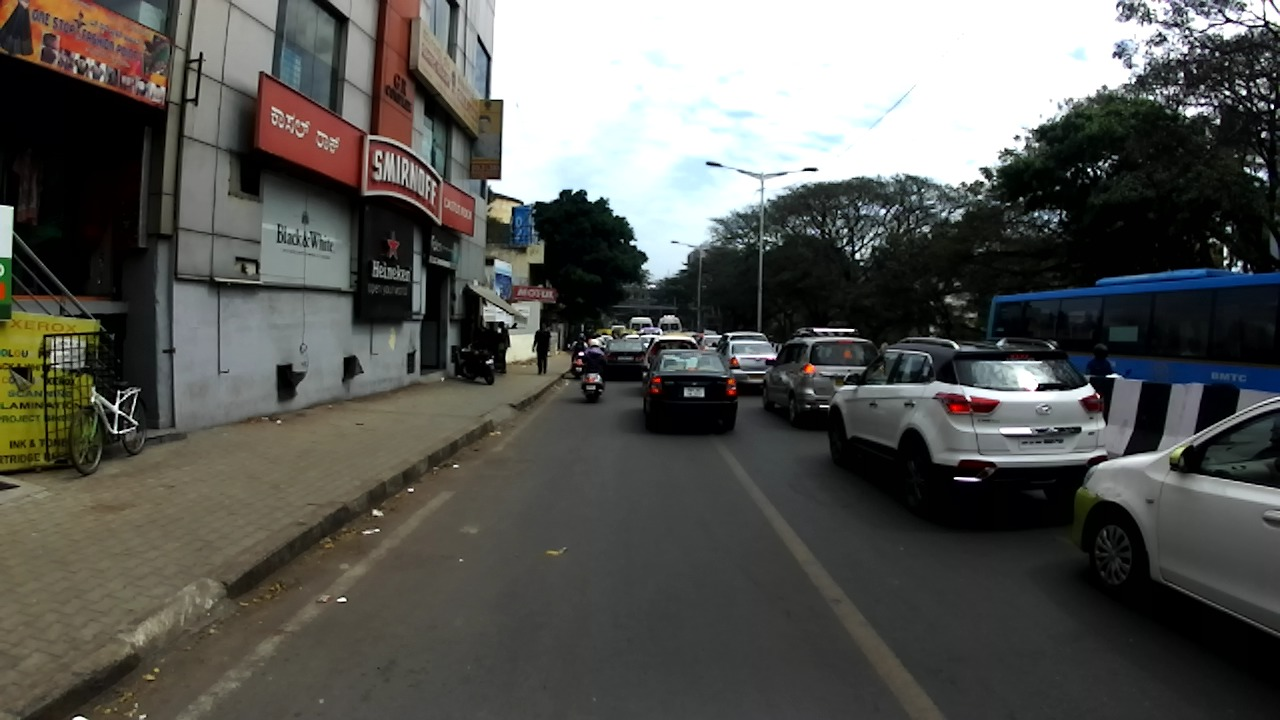autorickshaw: (597, 328, 613, 337)
bicycle: (65, 368, 150, 477)
bus: (986, 268, 1280, 392), (658, 314, 682, 335), (628, 316, 652, 332)
car: (1071, 395, 1280, 641), (826, 336, 1108, 515), (762, 328, 881, 429), (640, 349, 738, 434), (635, 337, 702, 387), (718, 339, 776, 391), (602, 339, 647, 378), (711, 331, 769, 355), (695, 335, 723, 354), (639, 334, 658, 348), (611, 324, 625, 339), (639, 327, 662, 335), (622, 334, 640, 340)
motorcycle: (457, 344, 496, 385), (576, 352, 606, 402), (569, 346, 587, 380), (1102, 370, 1134, 381)
person: (531, 321, 552, 375), (497, 321, 510, 376), (482, 322, 498, 366), (877, 338, 888, 353), (585, 323, 594, 339)
rider: (581, 337, 607, 378), (1086, 343, 1112, 376), (570, 332, 588, 361), (587, 334, 600, 348), (595, 333, 605, 347)
vehicle fallback: (682, 330, 700, 342), (619, 329, 637, 339), (662, 330, 684, 337)
